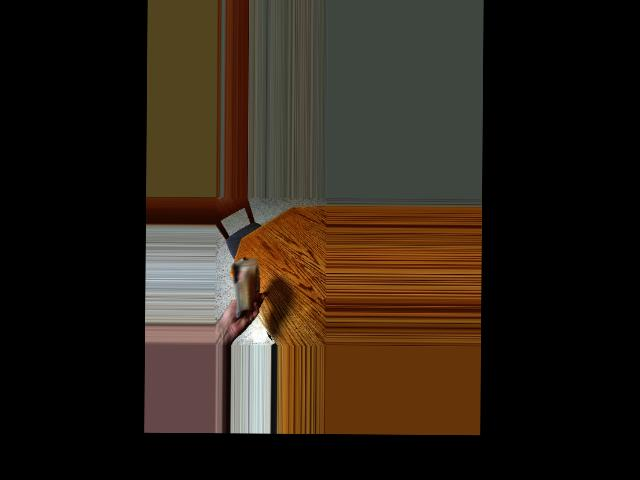cheese: (227, 259, 266, 312)
